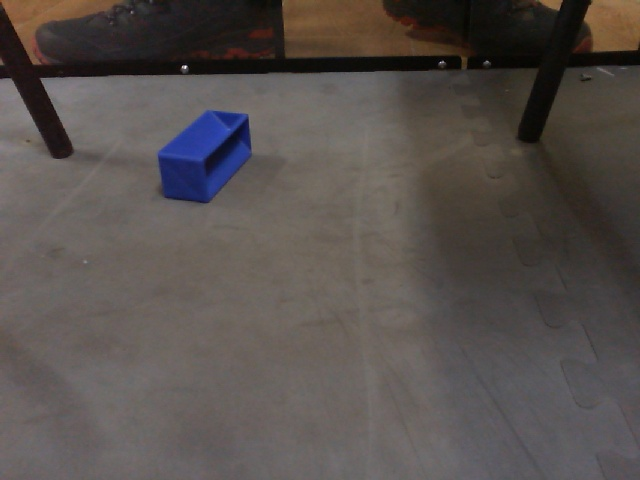BlueSample: (152, 109, 255, 207)
